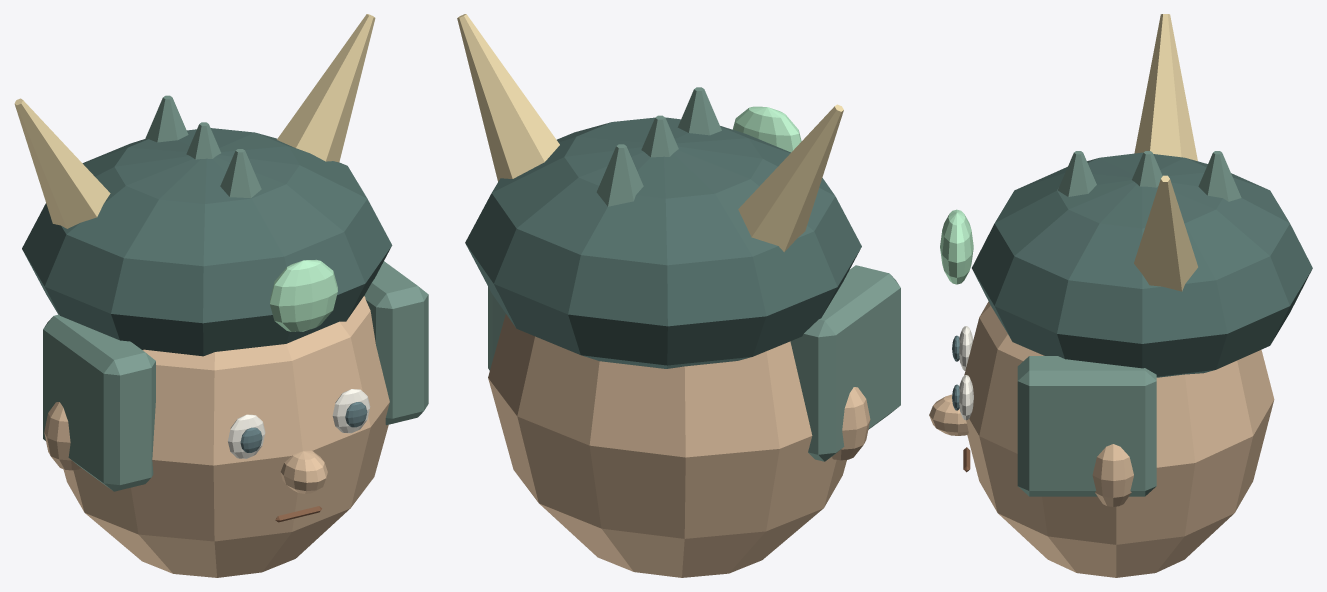
Rendered from Dragon_Archer_Head.fbx.
The picture shows the model from 3 angles, left to right: view 1: azimuth 30°, elevation 25°; view 2: azimuth 150°, elevation 25°; view 3: azimuth 270°, elevation 25°; orthographic projection. The views are drawn at different scales.
Visible parts, largest first — view 1: Dragon_Archer_Head; view 2: Dragon_Archer_Head; view 3: Dragon_Archer_Head.
Boxes of the visible parts, <box> form: Dragon_Archer_Head: <box>14,14,428,577</box>; Dragon_Archer_Head: <box>457,14,900,577</box>; Dragon_Archer_Head: <box>929,14,1312,577</box>.
Bounding box in the file's own units: 68.43 × 89.21 × 66.25.
